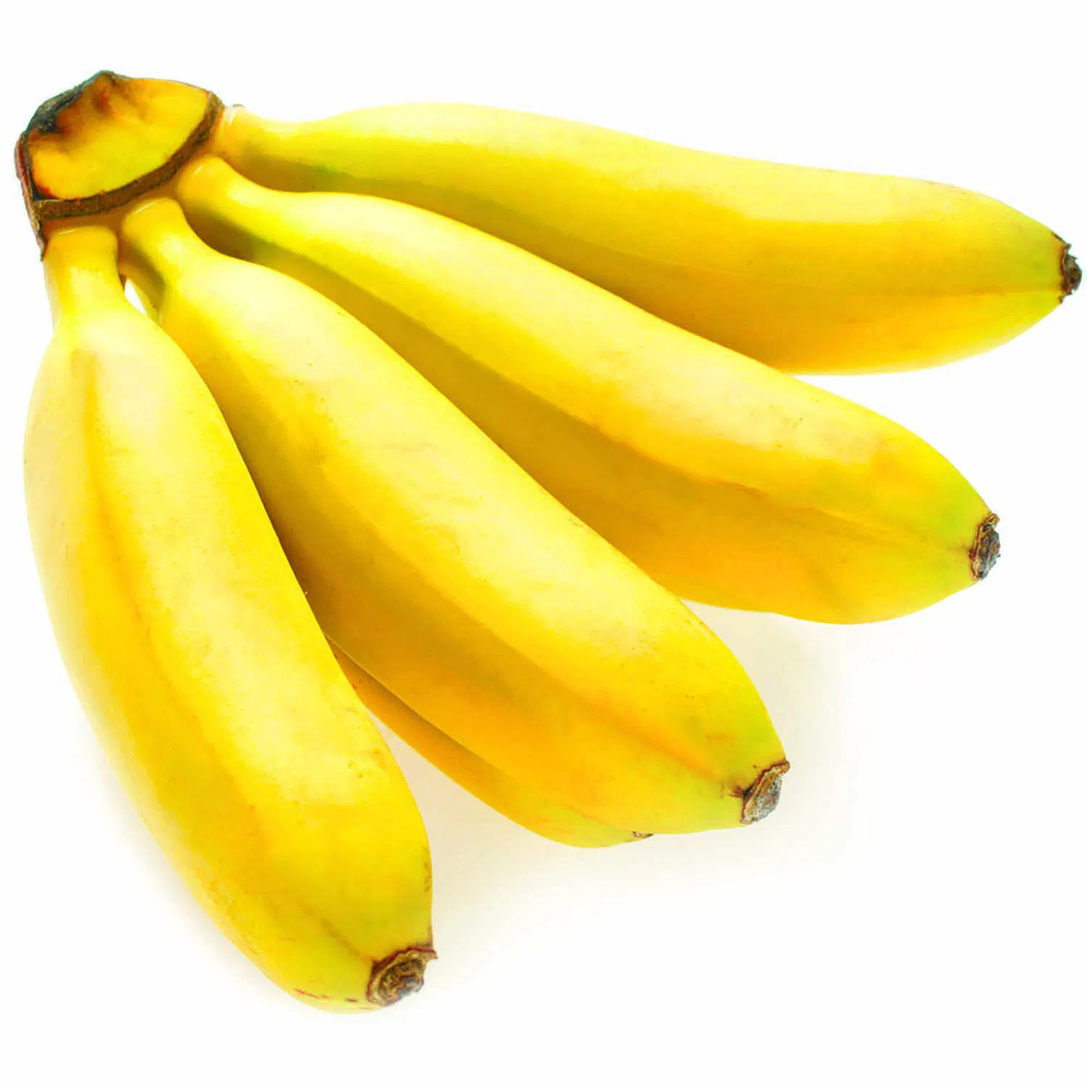banana: (17, 63, 1083, 1000)
